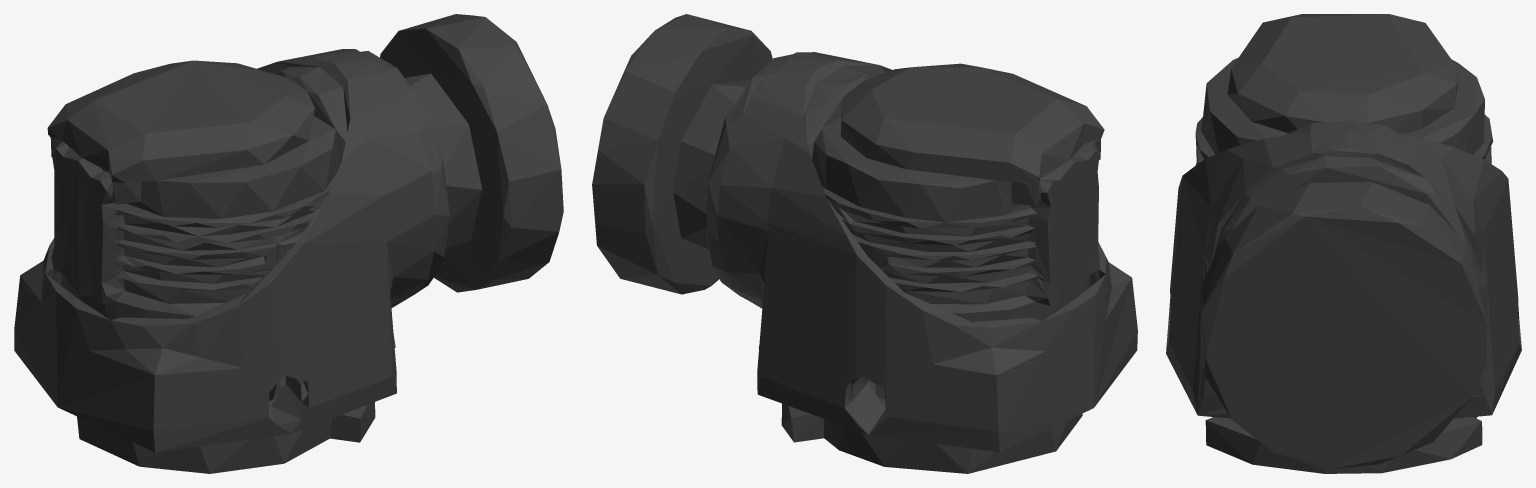
File: rear_right_hip_compressed.dae
3 views of the same model, side by side, from view 1: azimuth 30°, elevation 25°; view 2: azimuth 150°, elevation 25°; view 3: azimuth 270°, elevation 25° (orthographic). The views are drawn at different scales.
Parts seen in each view (by area): view 1: node; view 2: node; view 3: node.
Part boxes in pixels (x1,y1,x2,y2): node: [14, 14, 563, 473]; node: [592, 14, 1137, 473]; node: [1166, 14, 1521, 473].
Size of the model in its own units: 0.1422 by 0.1 by 0.0945.
Materials: 1 (1 with a texture image).
